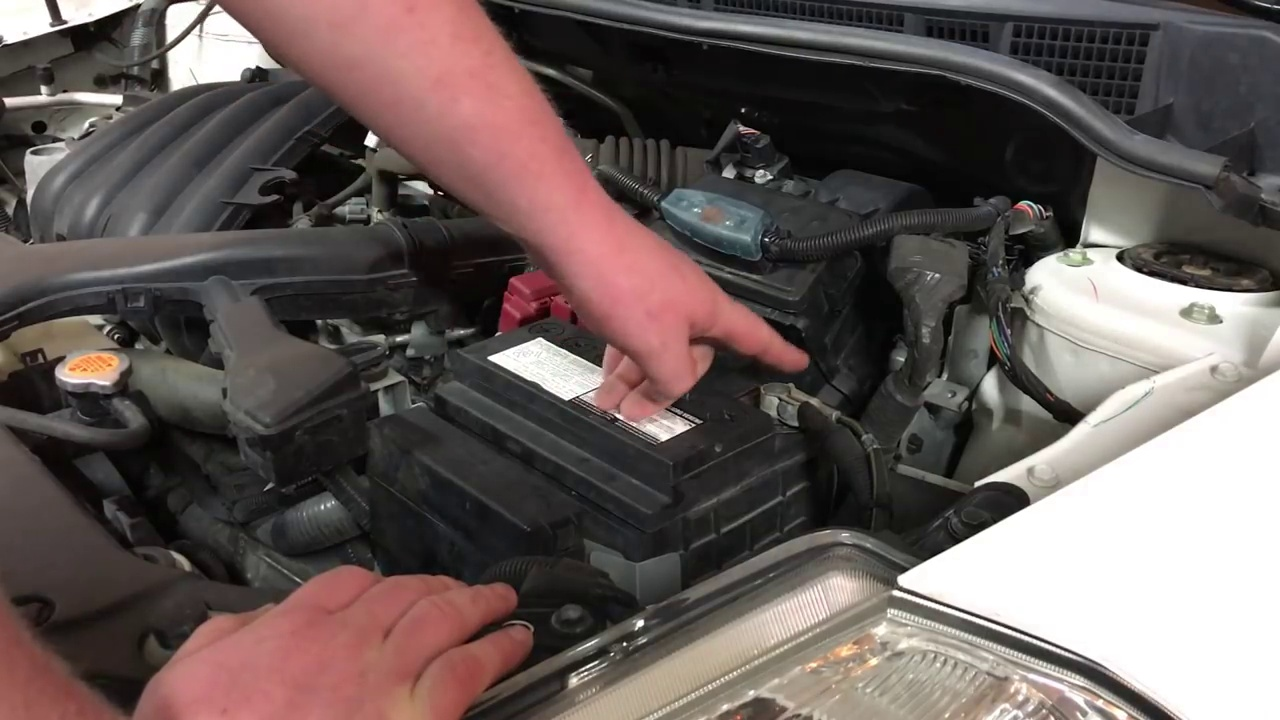battery: (453, 271, 810, 475)
neg_connected: (728, 363, 847, 448)
neg_touched: (663, 283, 834, 443)
pos_touched: (464, 253, 583, 350)
